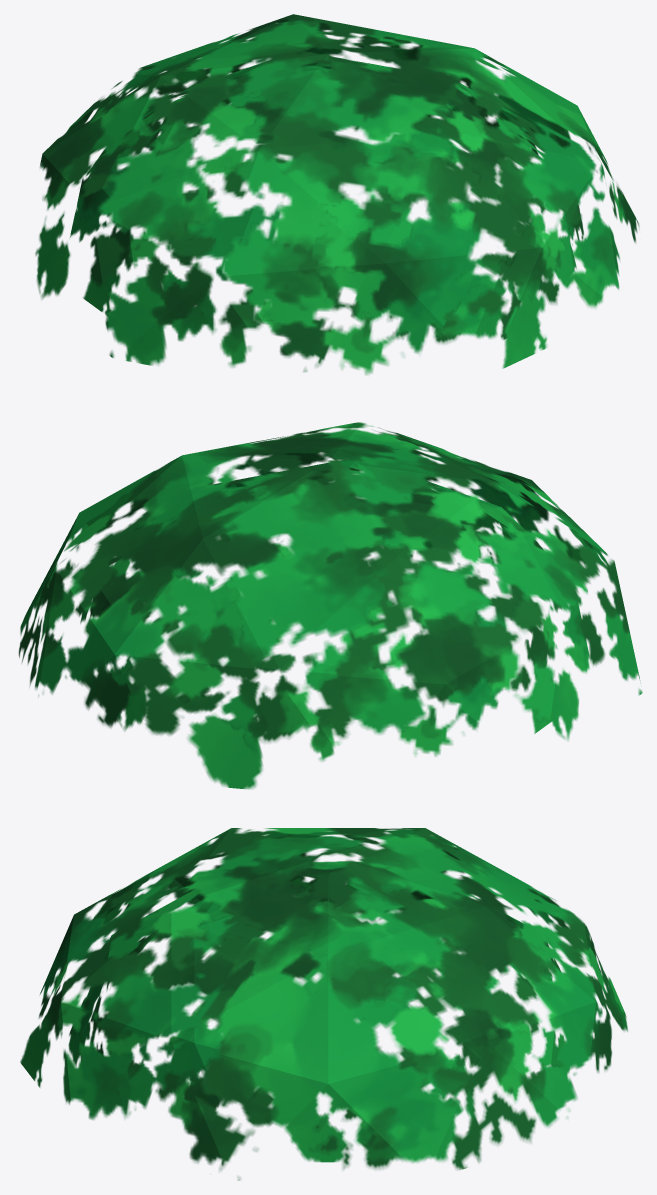
The model's file is Plant_14.glb.
3 views of the same model, one above another, from view 1: azimuth 30°, elevation 25°; view 2: azimuth 150°, elevation 25°; view 3: azimuth 270°, elevation 25° (orthographic). The views are drawn at different scales.
Visible parts, largest first — view 1: Plant_14; view 2: Plant_14; view 3: Plant_14.
Boxes of the visible parts, x1,y1,x2,y2 form: Plant_14: (35, 14, 639, 374); Plant_14: (18, 422, 642, 789); Plant_14: (20, 828, 627, 1180).
Bounding box in the file's own units: 0.8776 × 0.3231 × 0.9227.
1 material, 1 textured.
